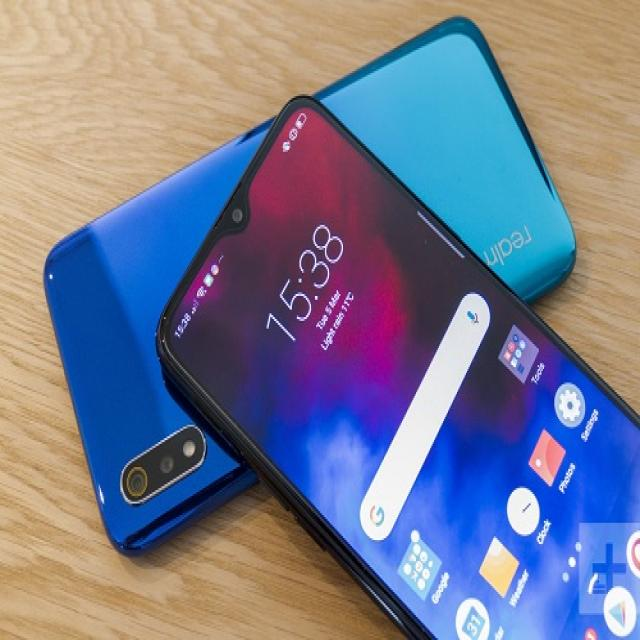mobile_phone: (24, 2, 638, 633), (38, 8, 613, 602), (146, 67, 637, 629)
